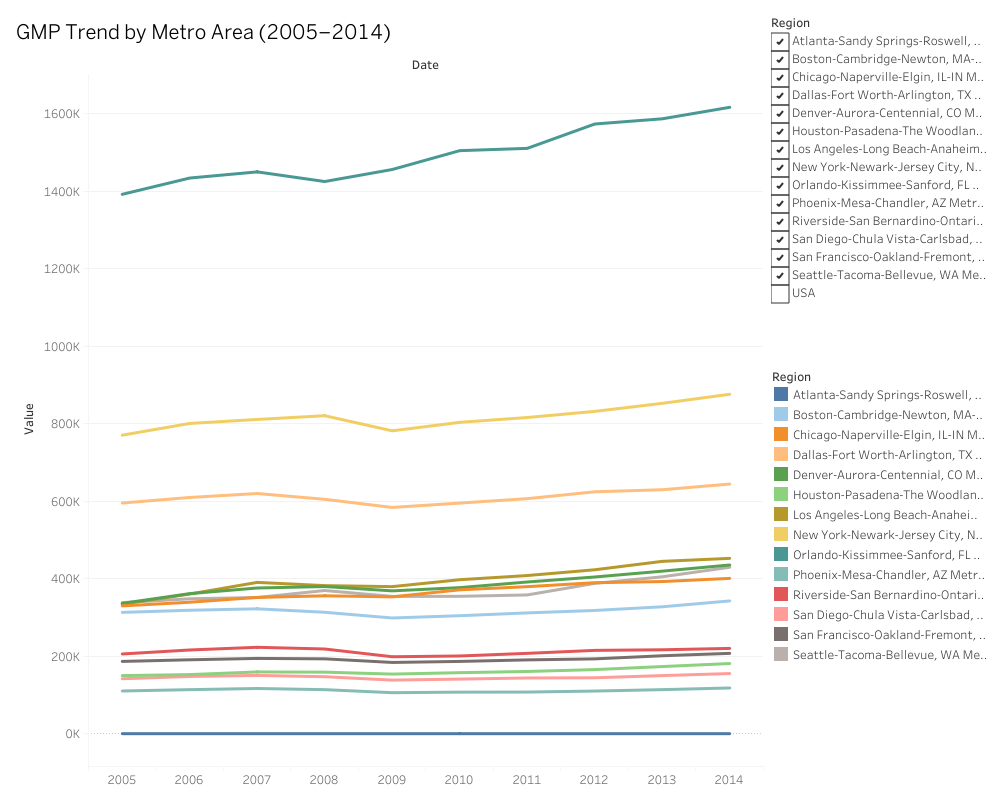

What the dashboard file says about the page in this screenshot:
{"tool":"tableau","page":{"name":"Dashboard 2","canvas":[1000,800],"ordinal":1},"visuals":[{"type":"worksheet","title":"GMP Trend by Metro","mark":"Automatic","rows":["Value"],"cols":["Date"],"box":[8,8,759,784]},{"type":"filter","title":"GMP Trend by Metro","param":"[federated.0neb5o51ny1kbg1dho3cj0hr51z0].[none:Region:nk]","box":[767,8,225,400]},{"type":"legend","title":"GMP Trend by Metro","param":"[federated.0neb5o51ny1kbg1dho3cj0hr51z0].[none:Region:nk]","box":[767,408,225,384]}]}

Visuals, with their boxes in screenshot pixels (x1, y1, x2, y2), scaled from the page's 1000x800 canvas onto the 999x799 screenshot:
"GMP Trend by Metro" worksheet: box(8, 8, 766, 791)
"GMP Trend by Metro" filter: box(766, 8, 991, 407)
"GMP Trend by Metro" legend: box(766, 407, 991, 791)
